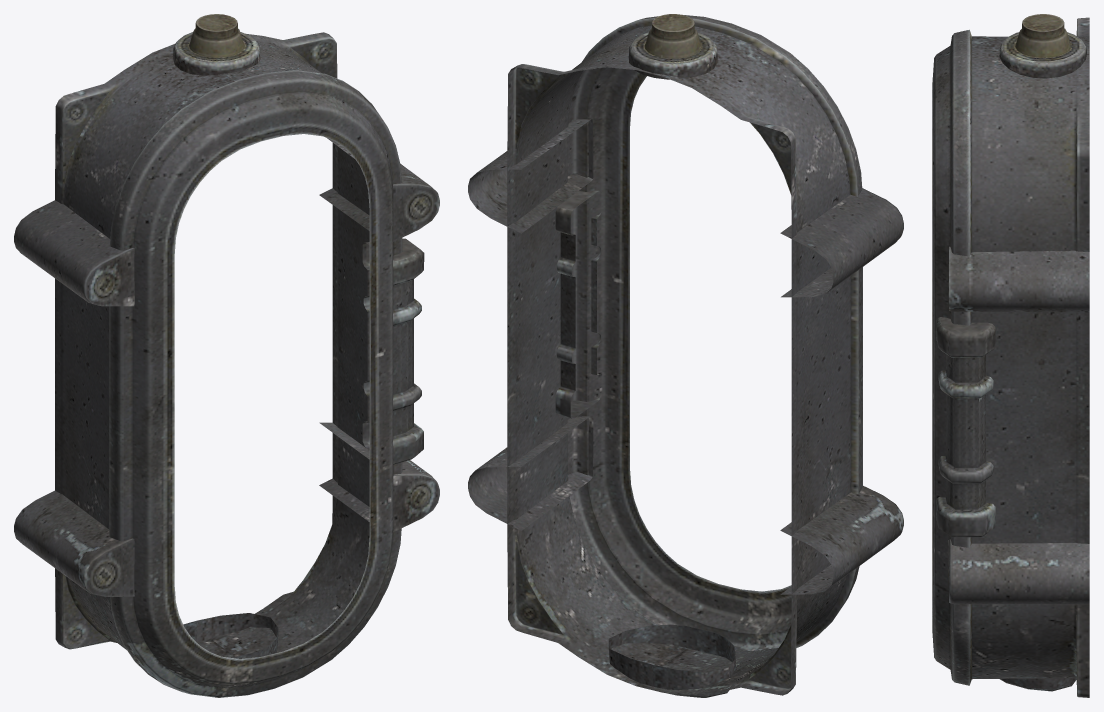
Rendered from housing.fbx.
The picture shows the model from 3 angles, left to right: view 1: azimuth 30°, elevation 25°; view 2: azimuth 150°, elevation 25°; view 3: azimuth 270°, elevation 25°; orthographic projection. The views are drawn at different scales.
Parts seen in each view (by area): view 1: polySurface10; view 2: polySurface10; view 3: polySurface10.
Boxes of the visible parts, left/top/right/bottom form: polySurface10: left=14, top=14, right=439, bottom=697; polySurface10: left=468, top=14, right=903, bottom=697; polySurface10: left=932, top=14, right=1089, bottom=697.
Size of the model in its own units: 85.93 by 148 by 32.63.
